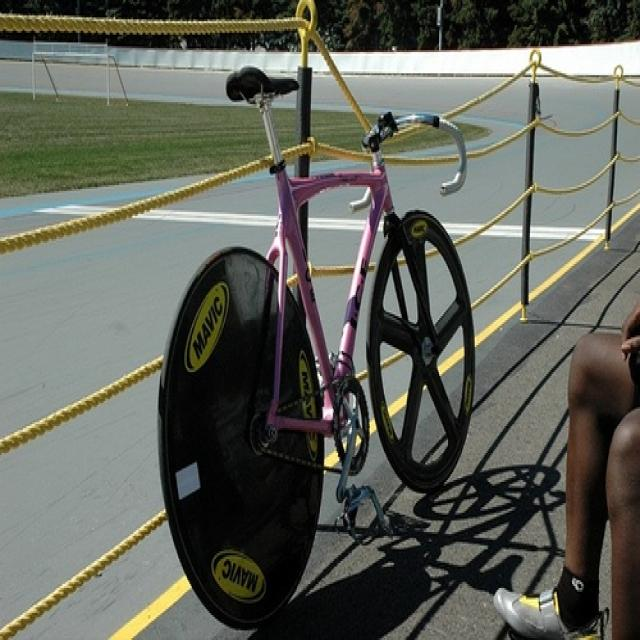bicycle: (160, 64, 480, 628)
